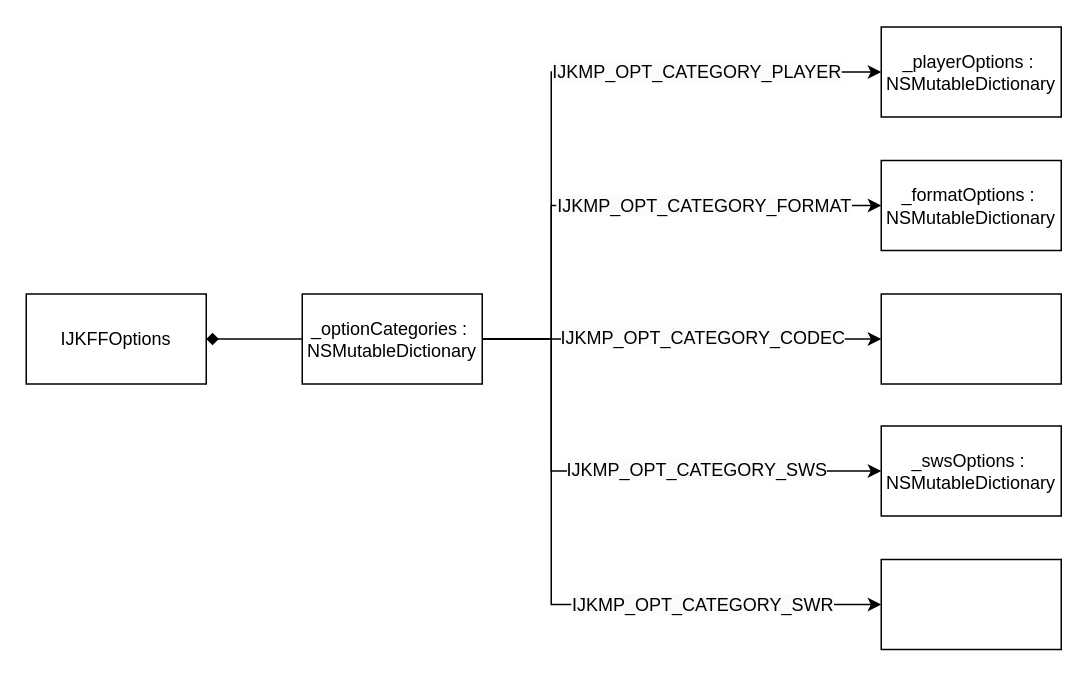
This 1088x675 diagram has some shape labels left out. The shapes that lost their labels are listed below. From the top down, each one's centre as x and y in pixels, then its label:
At [970,338]: "_codecOptions : NSMutableDictionary".
At [970,604]: "_swrOptions : NSMutableDictionary".
